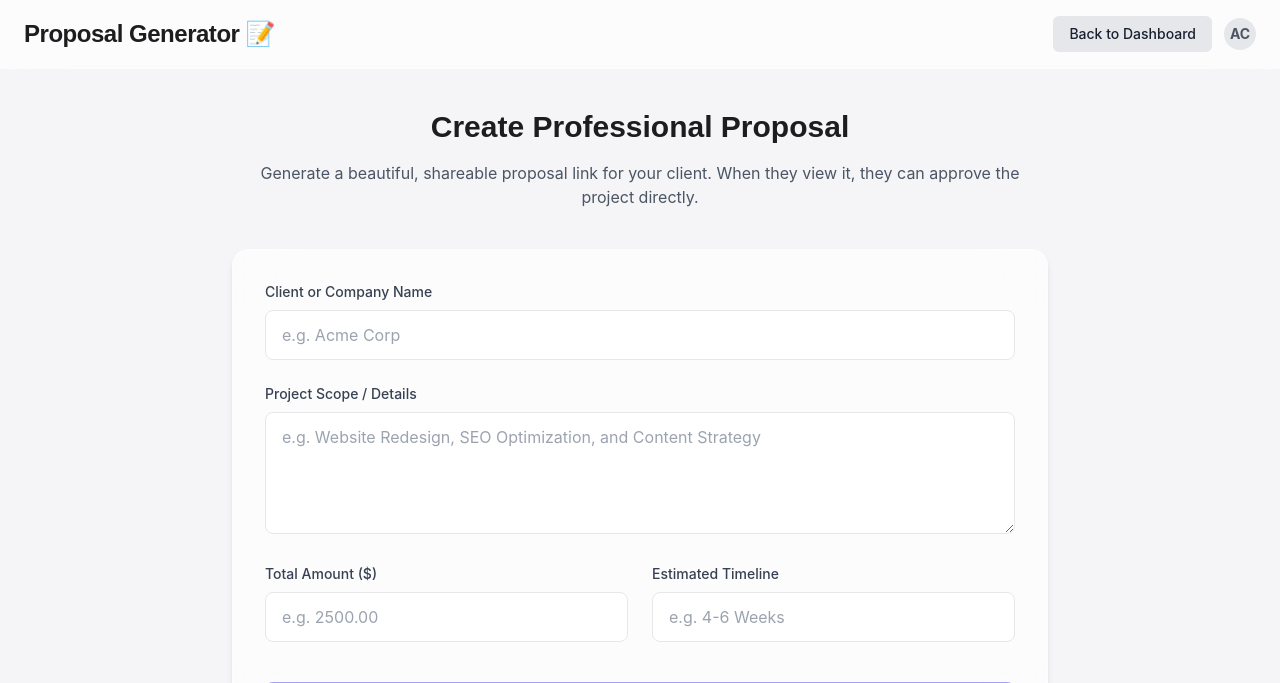
Scenario: ProposalGeneratorPage › generates a shareable proposal link on valid input
This screenshot has width=1280, height=683.
In the field with placeholder "e.g. Acme Corp": (640, 335) [265,310,1015,360], type "Test Client"
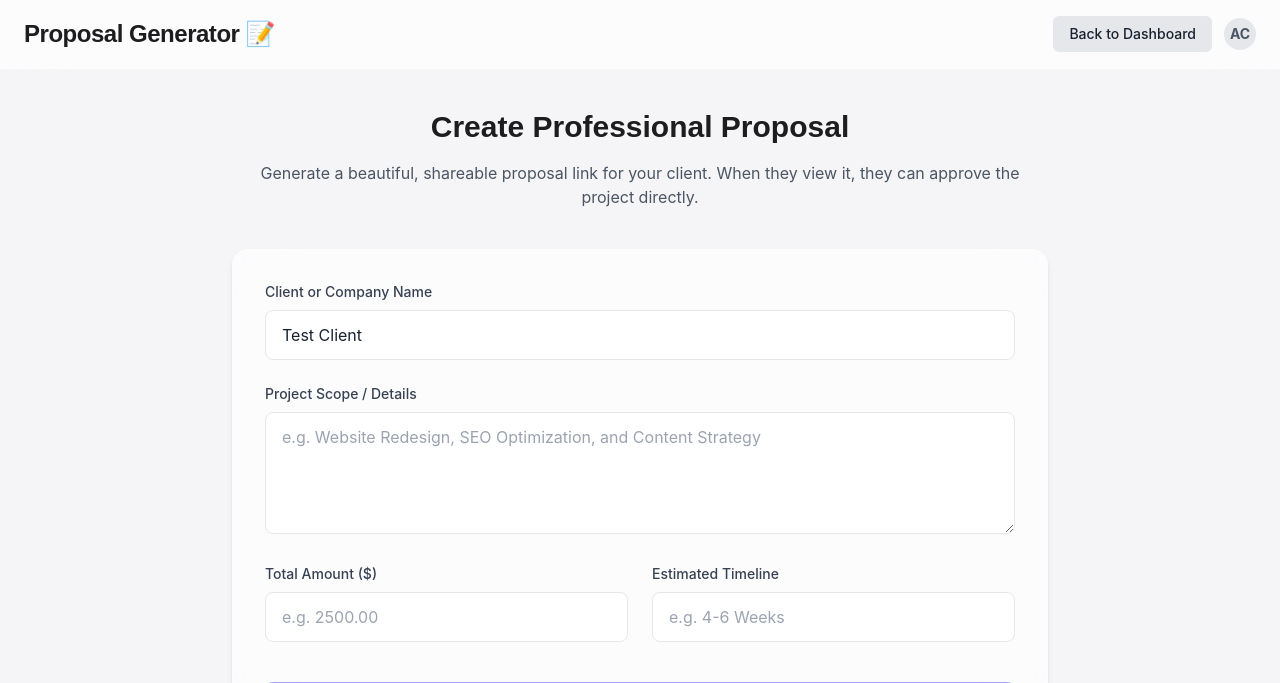
Replace the text in the text box with placeholder "e.g. Website Redesign" with "Test Scope": (640, 473) [265,412,1015,534]
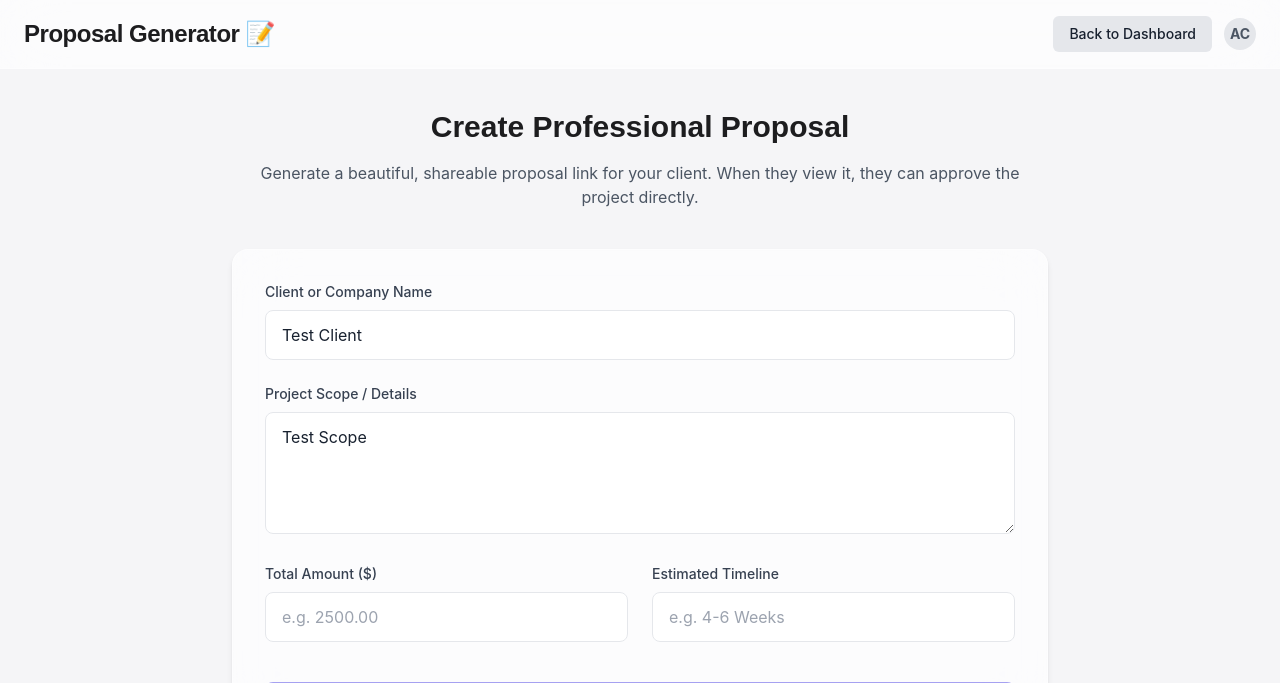
In the number field with placeholder "e.g. 2500.00": (446, 617) [265,592,628,642], type "1000"
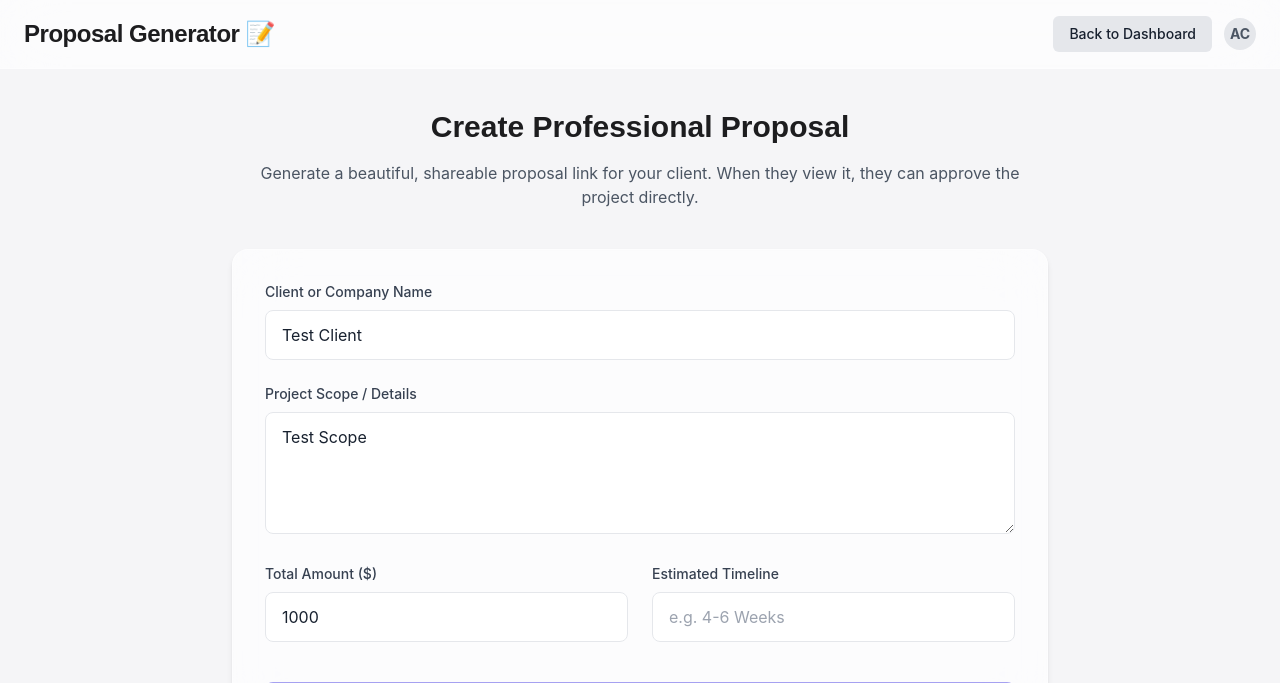
In the field with placeholder "e.g. 4-6 Weeks": (834, 617) [652,592,1015,642], type "2 Weeks"
(page scrolled)
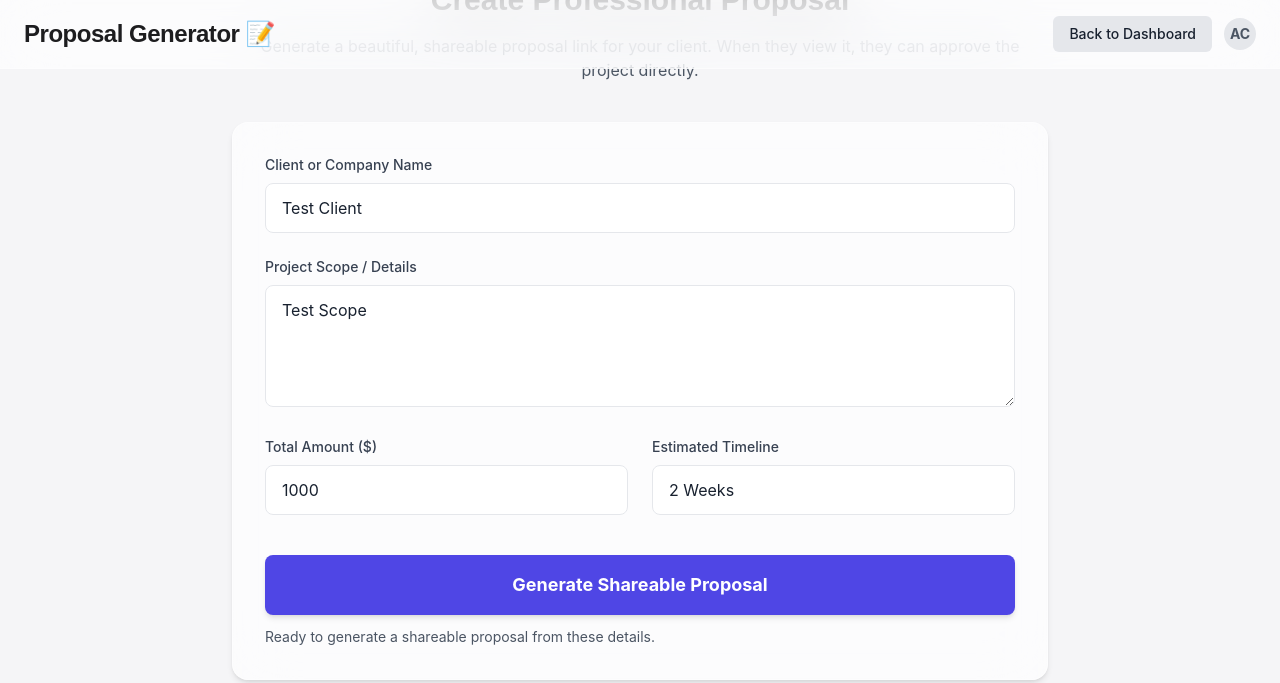
Click the button "Generate Shareable Proposal": (640, 585) [265,555,1015,615]
(page scrolled)
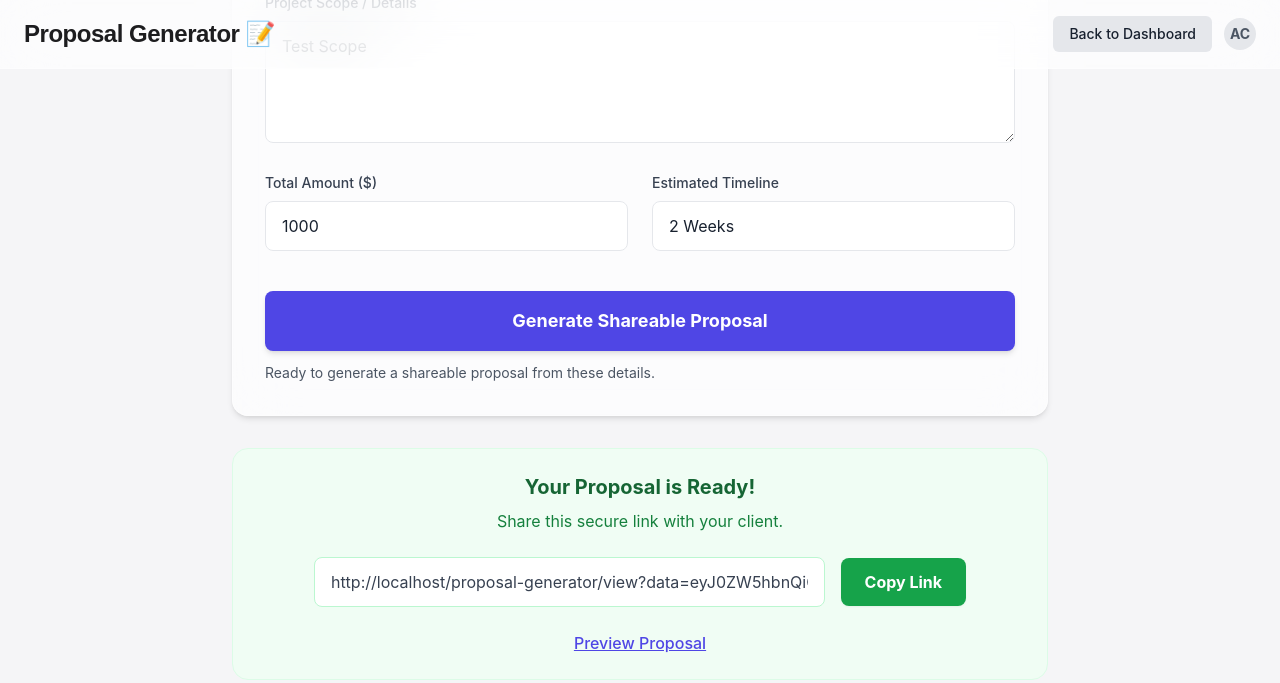
Expected: the heading "Your Proposal is Ready!" is shown, [525,475,755,499]
